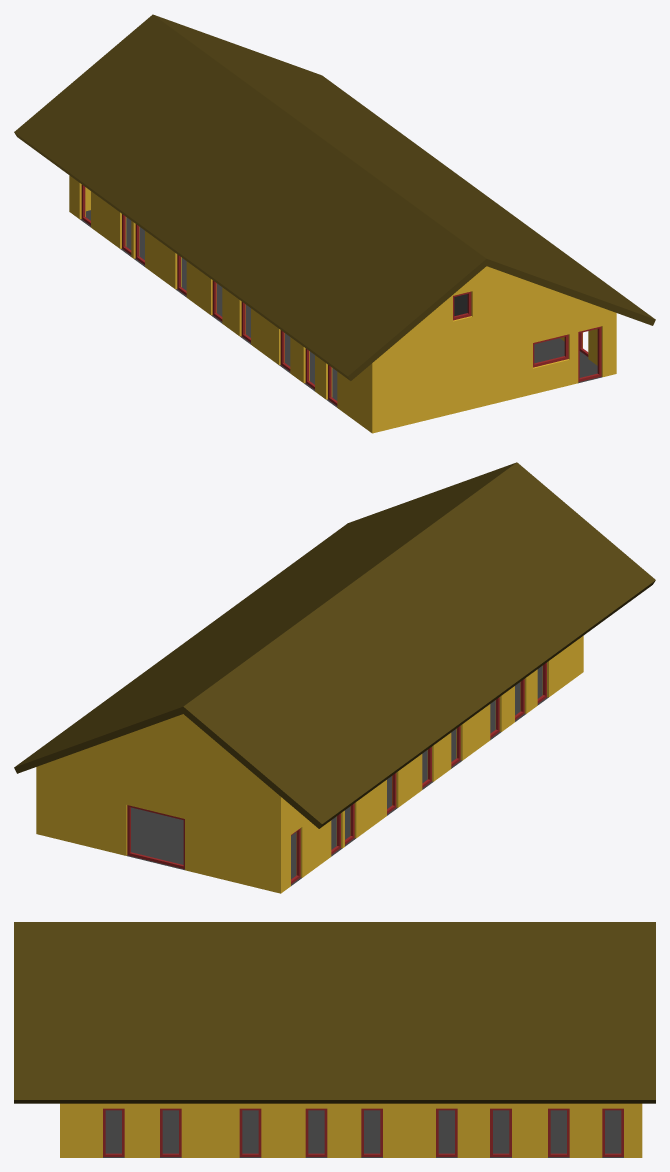
The model's file is result.dae.
3 renders of one model, top to bottom at view 1: azimuth 30°, elevation 25°; view 2: azimuth 150°, elevation 25°; view 3: azimuth 270°, elevation 25°, orthographic. The views are drawn at different scales.
Parts seen in each view (by area): view 1: 3edfd333-e0ce-4a29-8953-1c77472a7a65__undefined (×5), f3303f70-d80e-4b81-a1b9-77ee79b25d0e__undefined (×2), 7a711939-4c9d-47b3-a877-f782689e7d9b__Plane_40; view 2: 3edfd333-e0ce-4a29-8953-1c77472a7a65__undefined (×5), f3303f70-d80e-4b81-a1b9-77ee79b25d0e__undefined (×2), 7a711939-4c9d-47b3-a877-f782689e7d9b__Plane_40; view 3: 3edfd333-e0ce-4a29-8953-1c77472a7a65__undefined (×2), f3303f70-d80e-4b81-a1b9-77ee79b25d0e__undefined, 7a711939-4c9d-47b3-a877-f782689e7d9b__Plane_40, bb215256-fd7a-4869-83ef-89358a1a5631__Box_72, b3795d50-3df7-43f3-a595-6826b3dfd274__Box_75, 8fe7d7cd-ac5a-4c4f-9432-d8075c2828cd__Box_66, 6827ad8a-f149-4234-bb42-219c820b2c6b__Box_69, 82b72829-4474-4772-90d0-d75b48272e06__Box_78, 68ccd736-265e-4dc9-978b-c85eb91d1cec__Box_81, 27299226-5f40-4c81-b1a6-d1f74a81ecfd__Box_84, 6d8929d3-89df-4aa6-9e41-a9c49ff472c6__Box_87, 09dfa802-424b-4d61-a2a2-6acd07cc1f26__Box_90.
Part boxes in pixels (left/top/right/bottom): 3edfd333-e0ce-4a29-8953-1c77472a7a65__undefined (×5): left=14, top=14, right=655, bottom=380; f3303f70-d80e-4b81-a1b9-77ee79b25d0e__undefined (×2): left=69, top=175, right=616, bottom=433; 7a711939-4c9d-47b3-a877-f782689e7d9b__Plane_40: left=80, top=210, right=601, bottom=407; 3edfd333-e0ce-4a29-8953-1c77472a7a65__undefined (×5): left=14, top=462, right=655, bottom=828; f3303f70-d80e-4b81-a1b9-77ee79b25d0e__undefined (×2): left=36, top=636, right=583, bottom=893; 7a711939-4c9d-47b3-a877-f782689e7d9b__Plane_40: left=126, top=666, right=548, bottom=885; 3edfd333-e0ce-4a29-8953-1c77472a7a65__undefined (×2): left=14, top=922, right=655, bottom=1103; f3303f70-d80e-4b81-a1b9-77ee79b25d0e__undefined: left=60, top=1103, right=642, bottom=1157; 7a711939-4c9d-47b3-a877-f782689e7d9b__Plane_40: left=103, top=1110, right=623, bottom=1157; bb215256-fd7a-4869-83ef-89358a1a5631__Box_72: left=239, top=1108, right=261, bottom=1156; b3795d50-3df7-43f3-a595-6826b3dfd274__Box_75: left=305, top=1108, right=327, bottom=1156; 8fe7d7cd-ac5a-4c4f-9432-d8075c2828cd__Box_66: left=103, top=1108, right=124, bottom=1156; 6827ad8a-f149-4234-bb42-219c820b2c6b__Box_69: left=160, top=1108, right=181, bottom=1156; 82b72829-4474-4772-90d0-d75b48272e06__Box_78: left=361, top=1108, right=382, bottom=1156; 68ccd736-265e-4dc9-978b-c85eb91d1cec__Box_81: left=436, top=1108, right=457, bottom=1156; 27299226-5f40-4c81-b1a6-d1f74a81ecfd__Box_84: left=490, top=1108, right=511, bottom=1156; 6d8929d3-89df-4aa6-9e41-a9c49ff472c6__Box_87: left=548, top=1108, right=569, bottom=1156; 09dfa802-424b-4d61-a2a2-6acd07cc1f26__Box_90: left=602, top=1108, right=623, bottom=1156.
Bounding box in the file's own units: 1258 × 664 × 2360.
